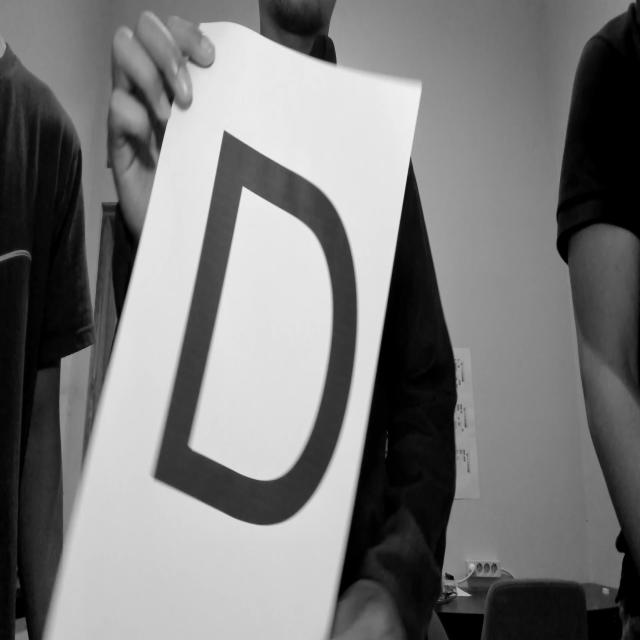d: (152, 99, 363, 538)
